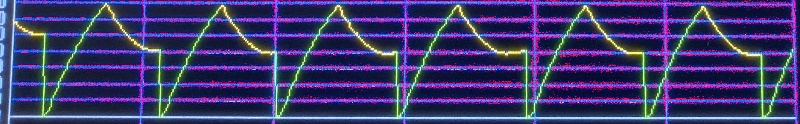leakage: (0, 0, 800, 122)
